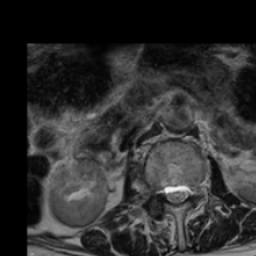CCS_stenosis: (172, 175, 180, 212)
LFS_normal: (190, 175, 199, 205)
LLS_normal: (180, 174, 190, 207)
RFS_stenosis: (153, 176, 163, 202)
RLS_normal: (163, 178, 172, 206)
